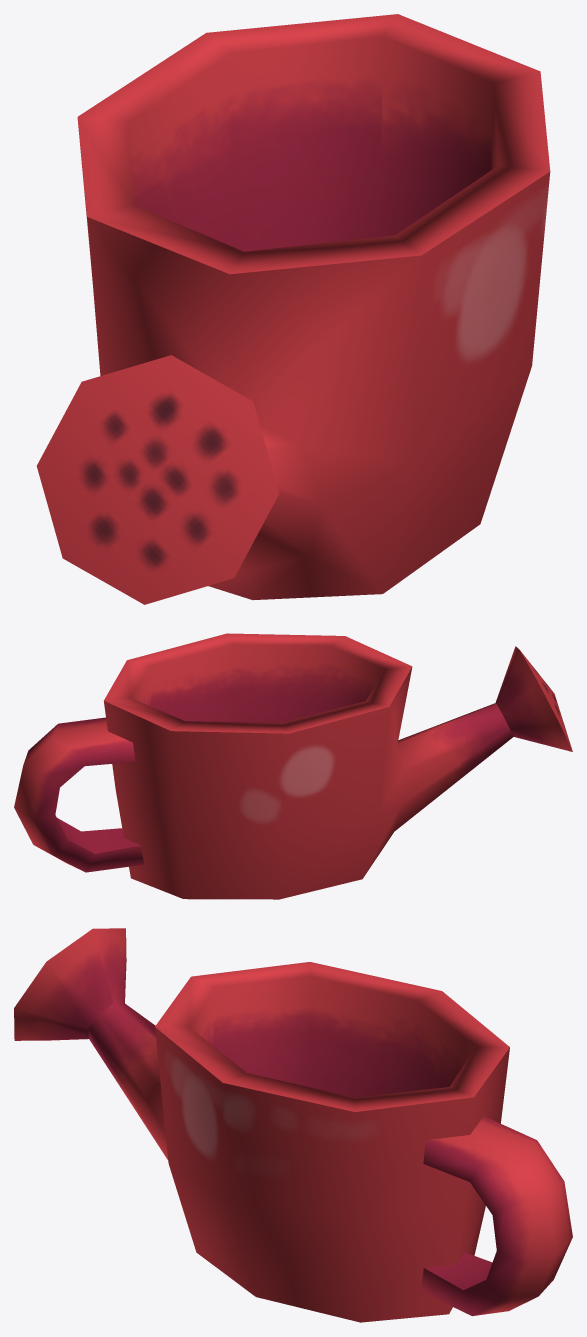
The model's file is wateringcan.fbx.
3 renders of one model, top to bottom at view 1: azimuth 30°, elevation 25°; view 2: azimuth 150°, elevation 25°; view 3: azimuth 270°, elevation 25°, orthographic. The views are drawn at different scales.
Visible parts, largest first — view 1: watering_can; view 2: watering_can; view 3: watering_can.
Part boxes in pixels (x1,y1,x2,y2): watering_can: (36, 14, 550, 604); watering_can: (14, 633, 572, 899); watering_can: (14, 928, 572, 1322).
Size of the model in its own units: 0.633 by 0.29 by 0.6287.
1 material, 1 textured.
